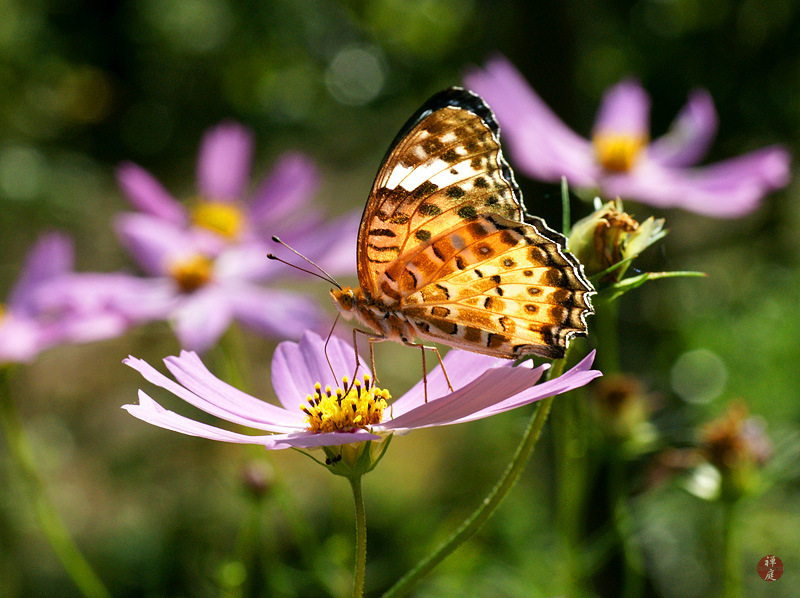Argyreus hyperbius: (260, 76, 603, 401)
butterfly: (262, 78, 605, 403)
